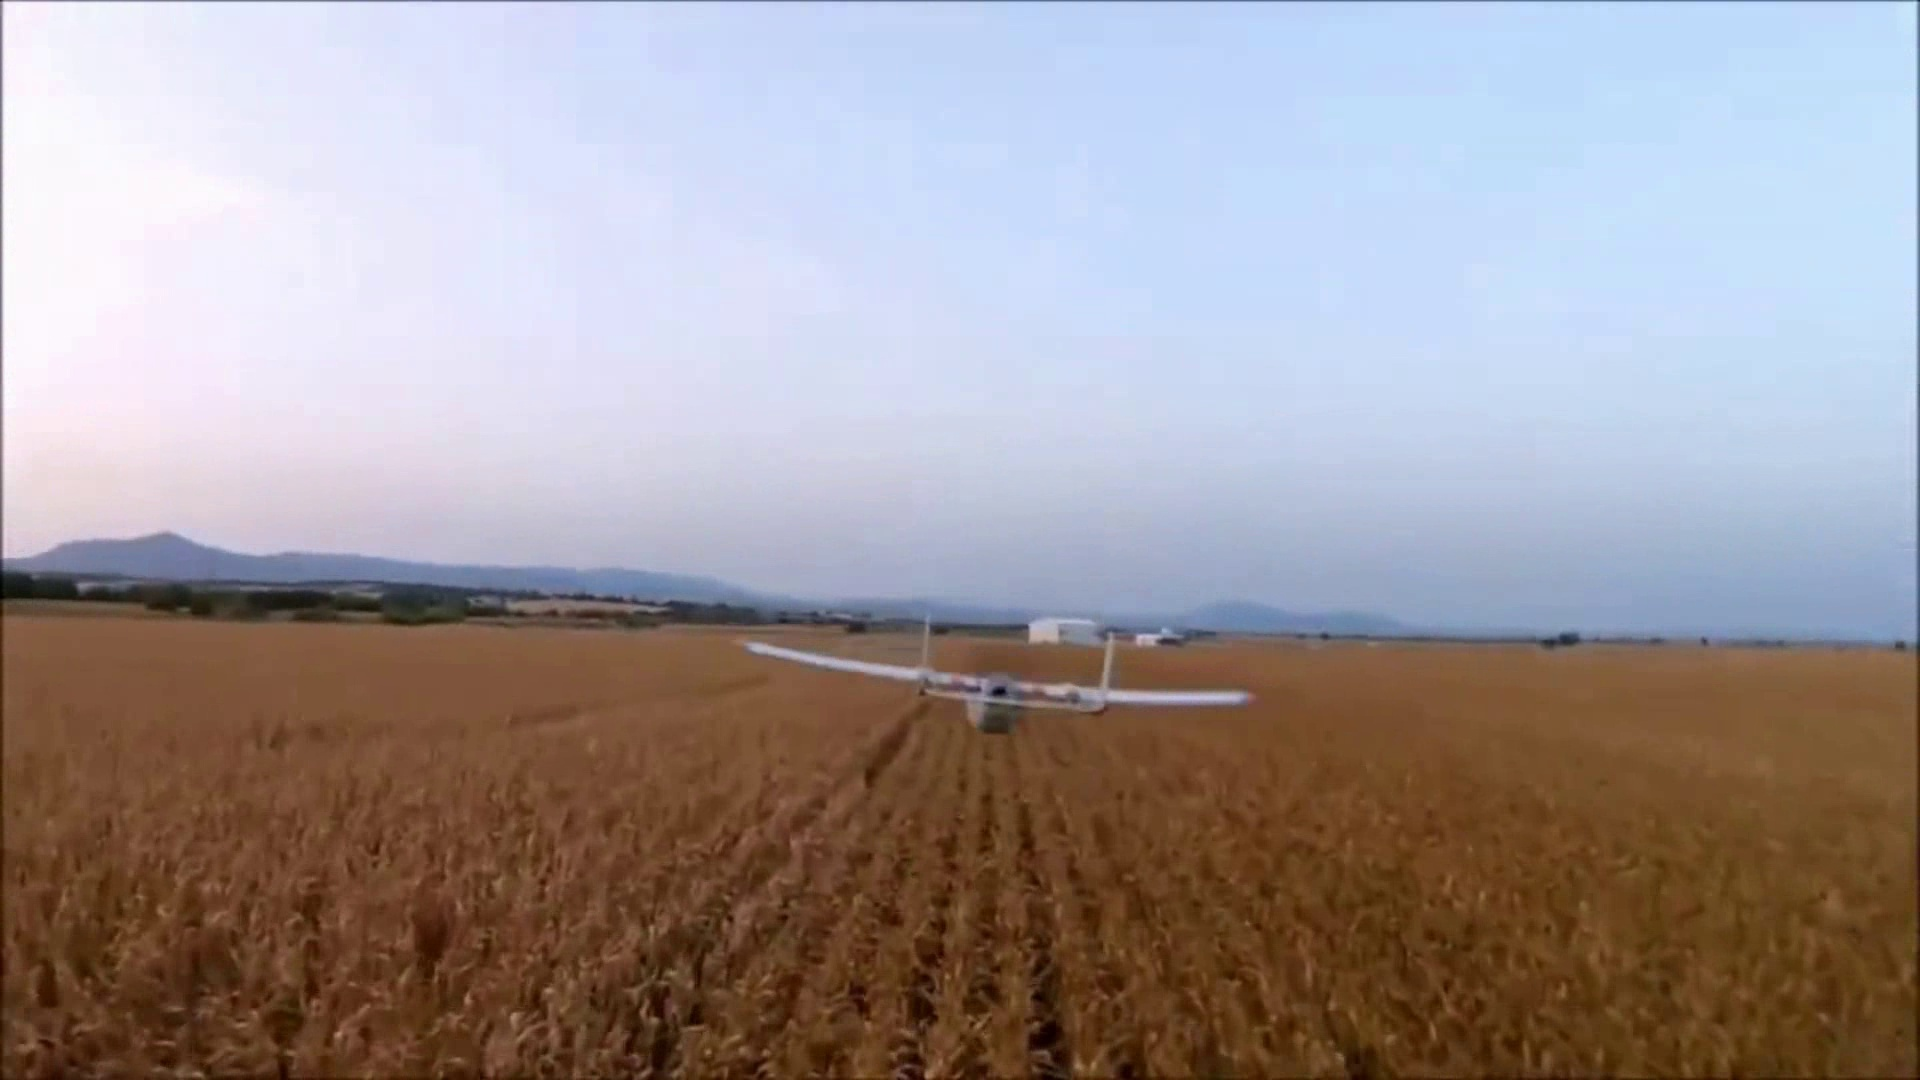airplane: (736, 625, 1254, 721)
